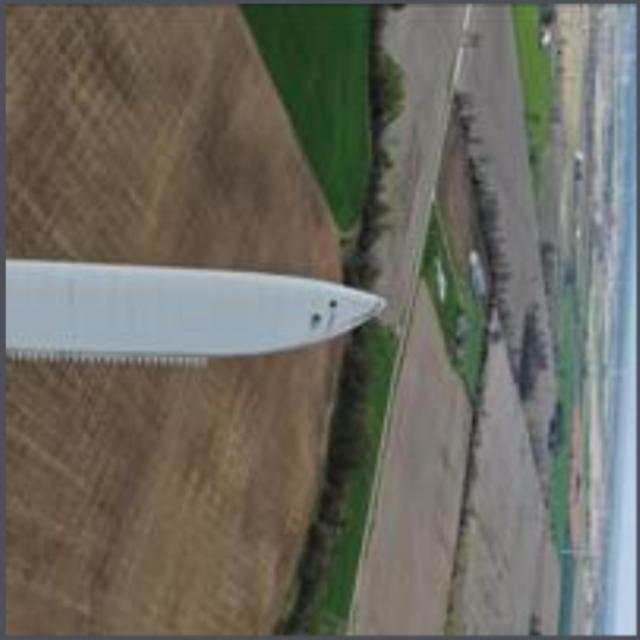Burn Mark: (309, 297, 338, 336)
Crack: (342, 297, 386, 332)
